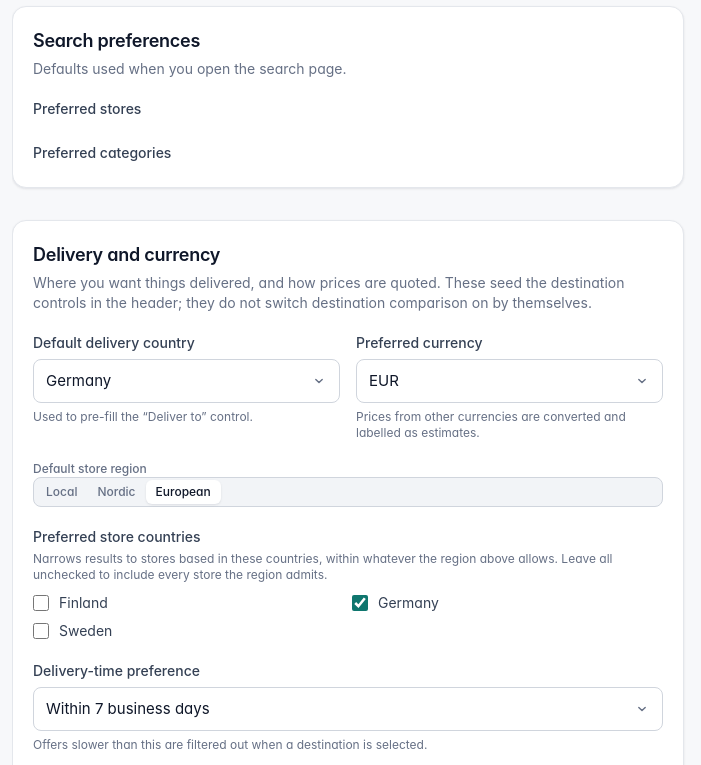
Test: saving updated values › sends every delivery field, and confirms
This screenshot has width=701, height=765.
(page scrolled)
Select "Finland" in the dropdown labelled "Default delivery country" at (186,381), box 33,359 -> 340,403
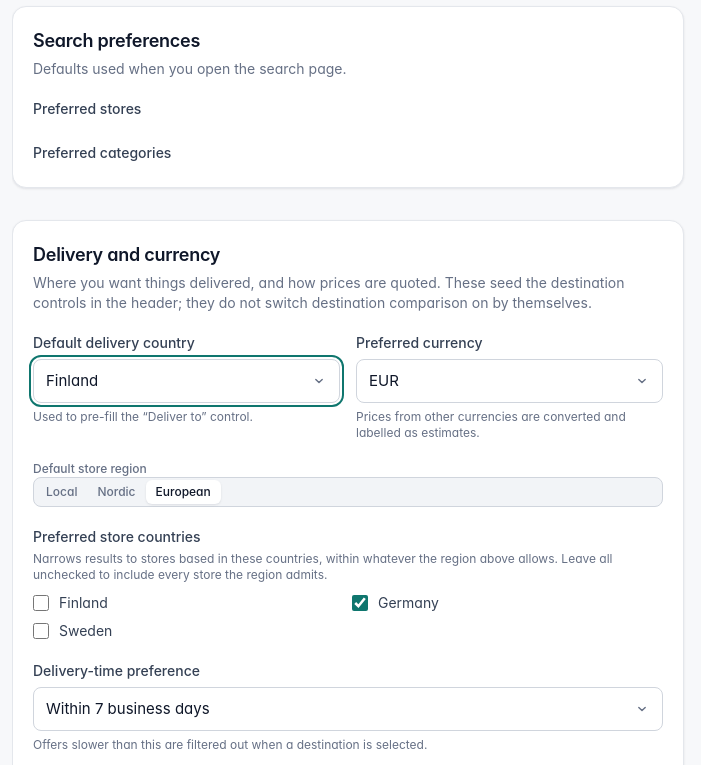
Select "SEK" in the dropdown labelled "Preferred currency" at (510,381), box 356,359 -> 663,403
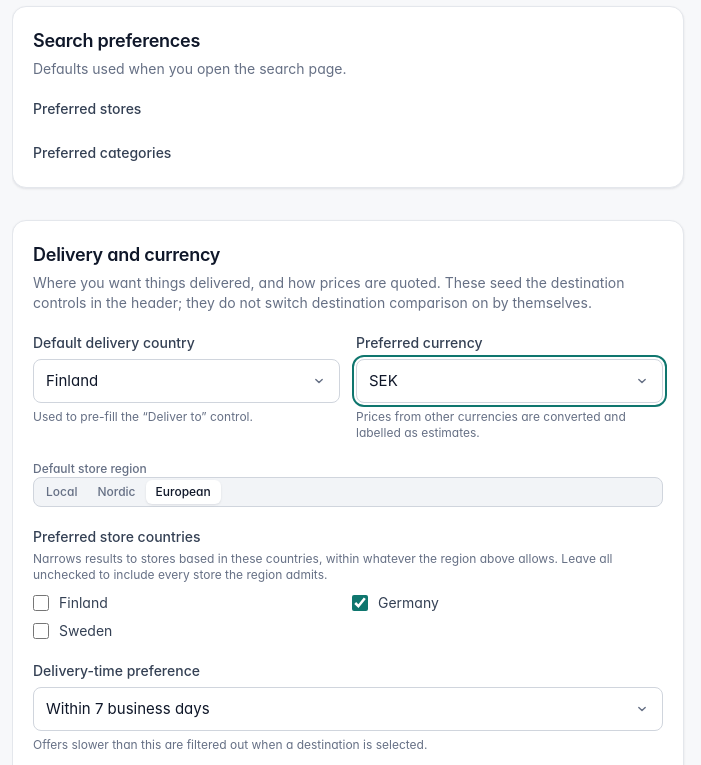
Select "Within 3 business days" in the dropdown labelled "Delivery-time preference" at (348,709), box 33,687 -> 663,731
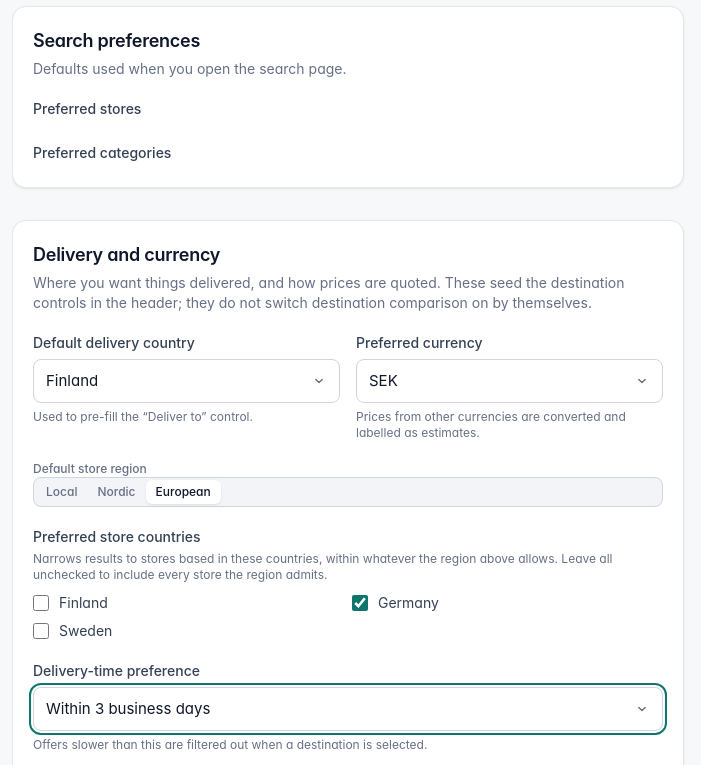
Click the radio button labelled "Nordic" at (116,492), box 97,484 -> 136,499
(page scrolled)
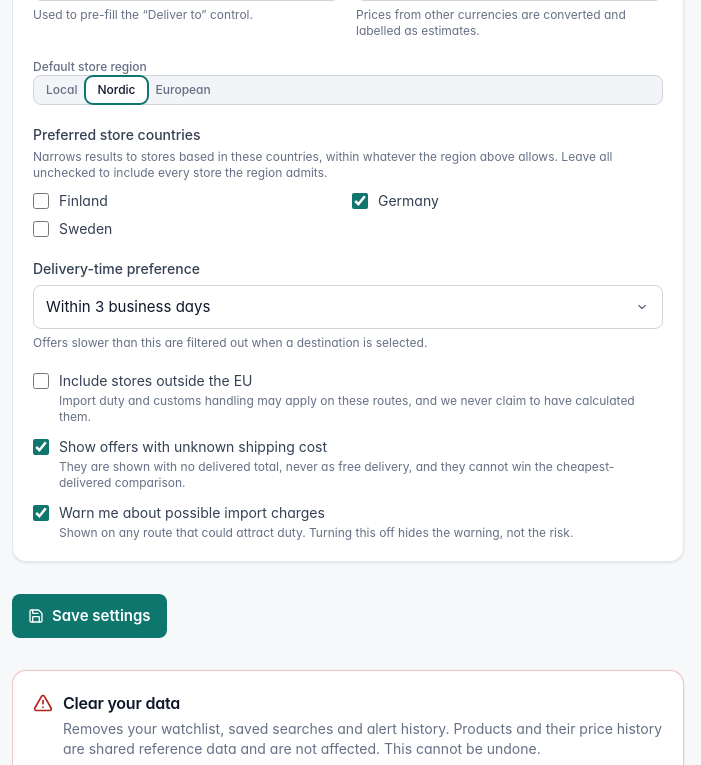
Click the checkbox labelled "Include stores outside the EU" at (41,381), box 33,373 -> 49,389
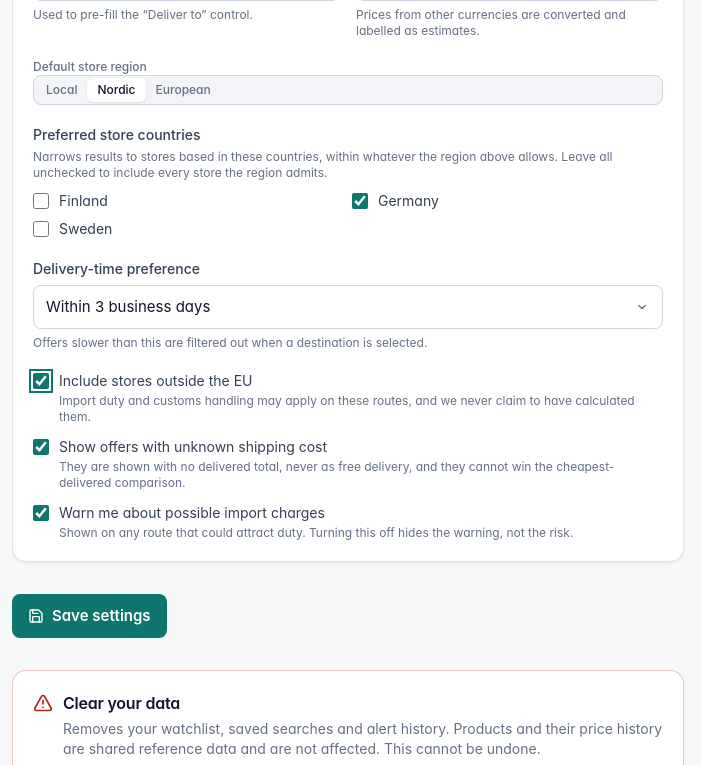
Click the button "Save settings" at (89,616), box 12,594 -> 167,638
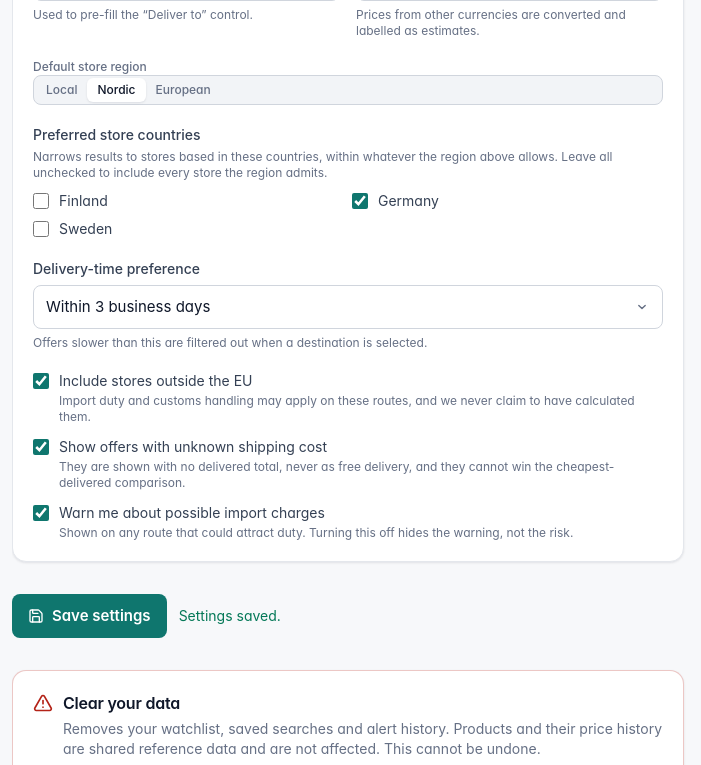
Expected: the text "Settings saved." is shown, 179,606 -> 281,626
